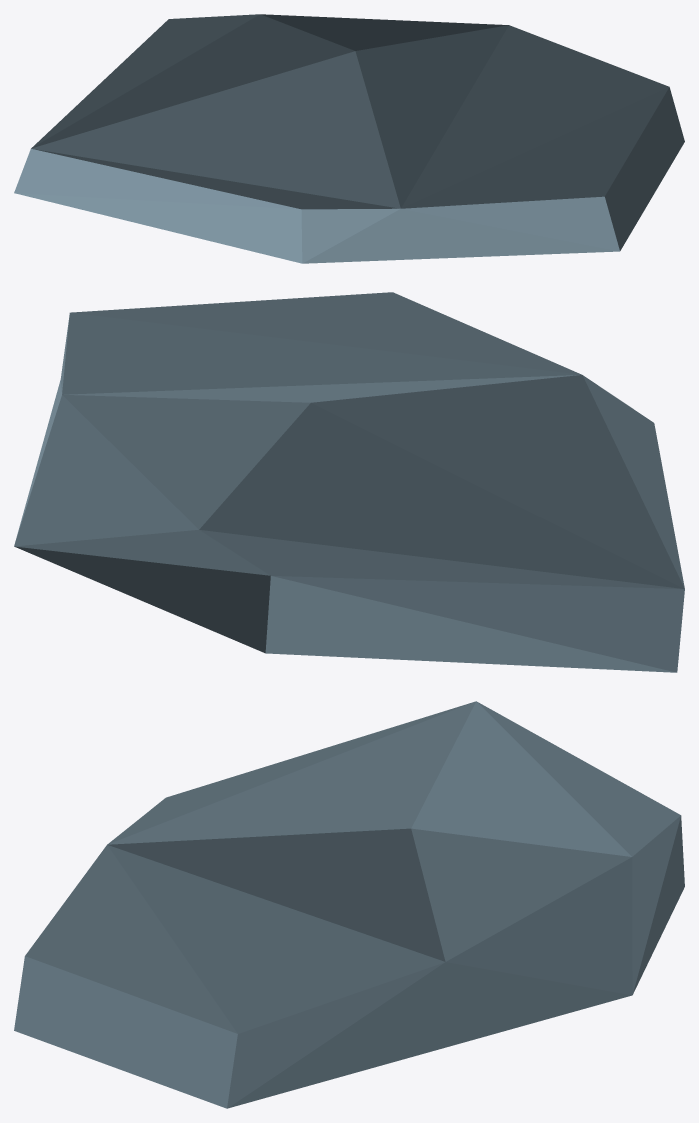
File: roca nueva.fbx
The picture shows the model from 3 angles, top to bottom: view 1: azimuth 30°, elevation 25°; view 2: azimuth 150°, elevation 25°; view 3: azimuth 270°, elevation 25°; orthographic projection. The views are drawn at different scales.
Visible parts, largest first — view 1: rocks; view 2: rocks; view 3: rocks.
Part boxes in pixels (x1,y1,x2,y2): rocks: (14, 14, 684, 263); rocks: (14, 292, 684, 672); rocks: (14, 701, 684, 1108).
Bounding box in the file's own units: 47.57 × 8.93 × 39.47.
